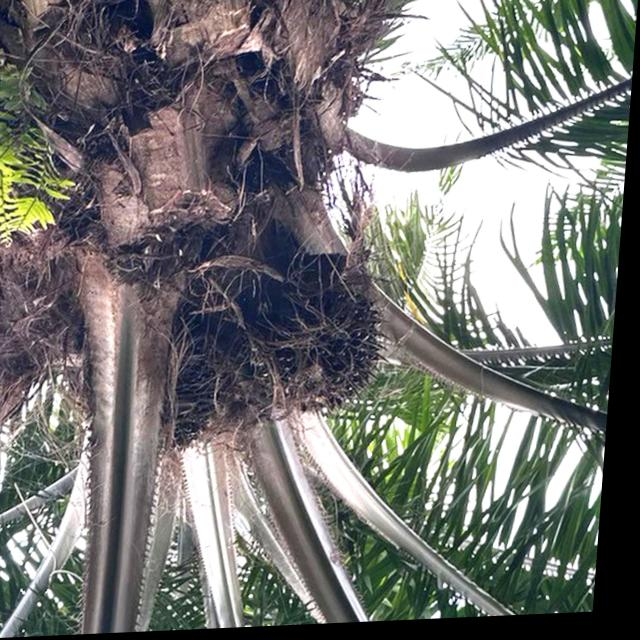almost: (242, 254, 400, 421)
